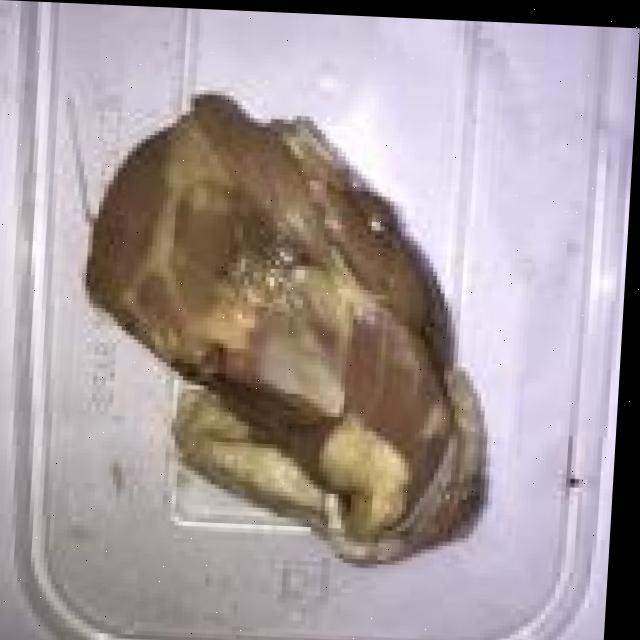breast: (73, 71, 516, 578)
